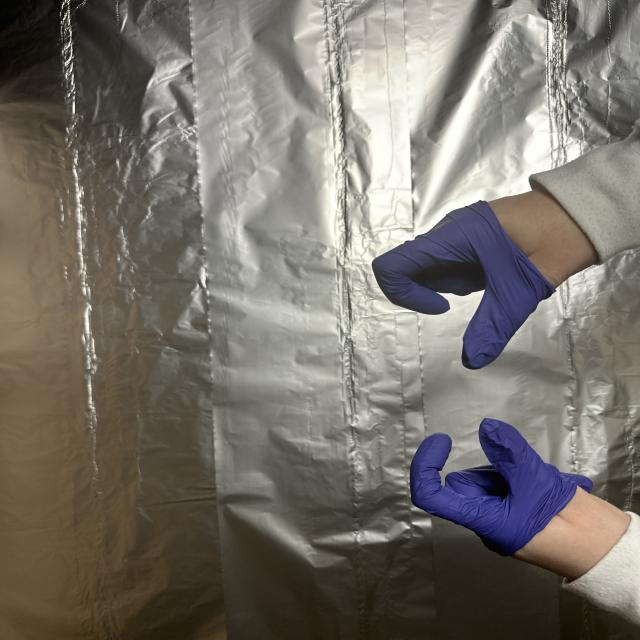glove_partial: (366, 187, 598, 370), (412, 414, 632, 581)
